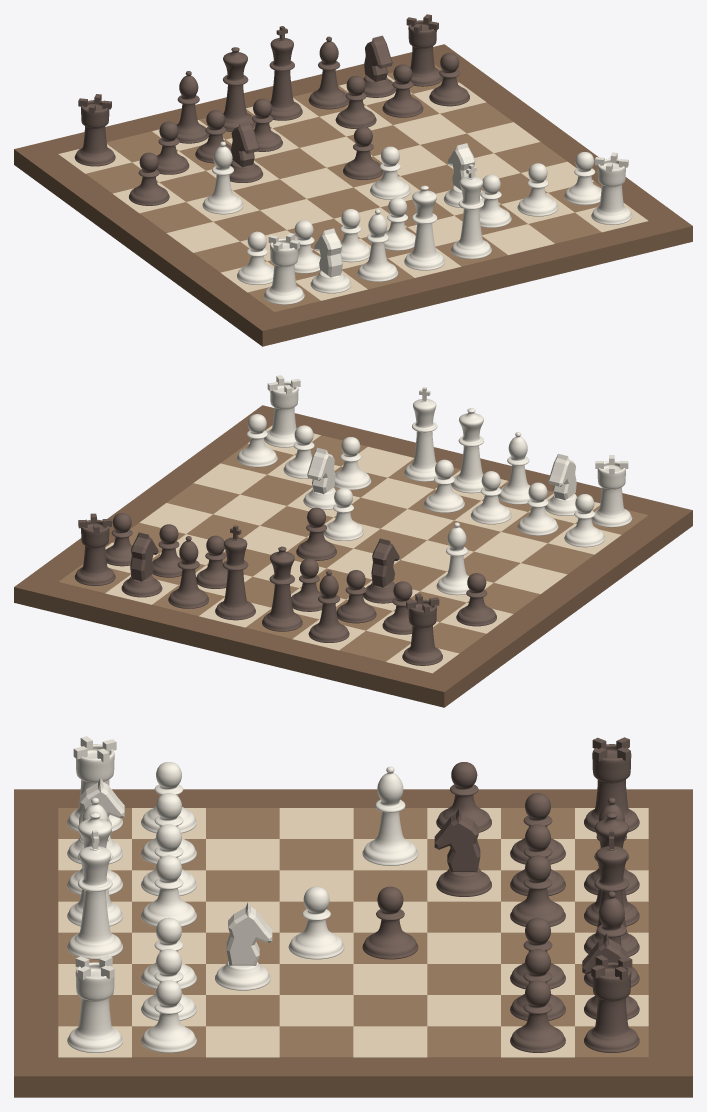
The picture shows the model from 3 angles, top to bottom: view 1: azimuth 30°, elevation 25°; view 2: azimuth 150°, elevation 25°; view 3: azimuth 270°, elevation 25°; orthographic projection. The views are drawn at different scales.
Parts seen in each view (by area): view 1: Shape (×32), Frame, DarkSquares, LightSquares; view 2: Shape (×32), Frame, DarkSquares, LightSquares; view 3: Shape (×32), Frame, DarkSquares, LightSquares.
Boxes of the visible parts, x1,y1,x2,y2 form: Shape (×32): (74, 14, 632, 304); Frame: (14, 44, 692, 346); DarkSquares: (85, 64, 601, 312); LightSquares: (58, 75, 648, 300); Shape (×32): (74, 375, 632, 665); Frame: (14, 405, 692, 707); DarkSquares: (58, 435, 648, 661); LightSquares: (105, 425, 621, 673); Shape (×32): (67, 736, 639, 1052); Frame: (14, 789, 692, 1097); DarkSquares: (58, 808, 648, 1057); LightSquares: (58, 808, 648, 1057).
Size of the model in its own units: 0.46 by 0.1036 by 0.46.
